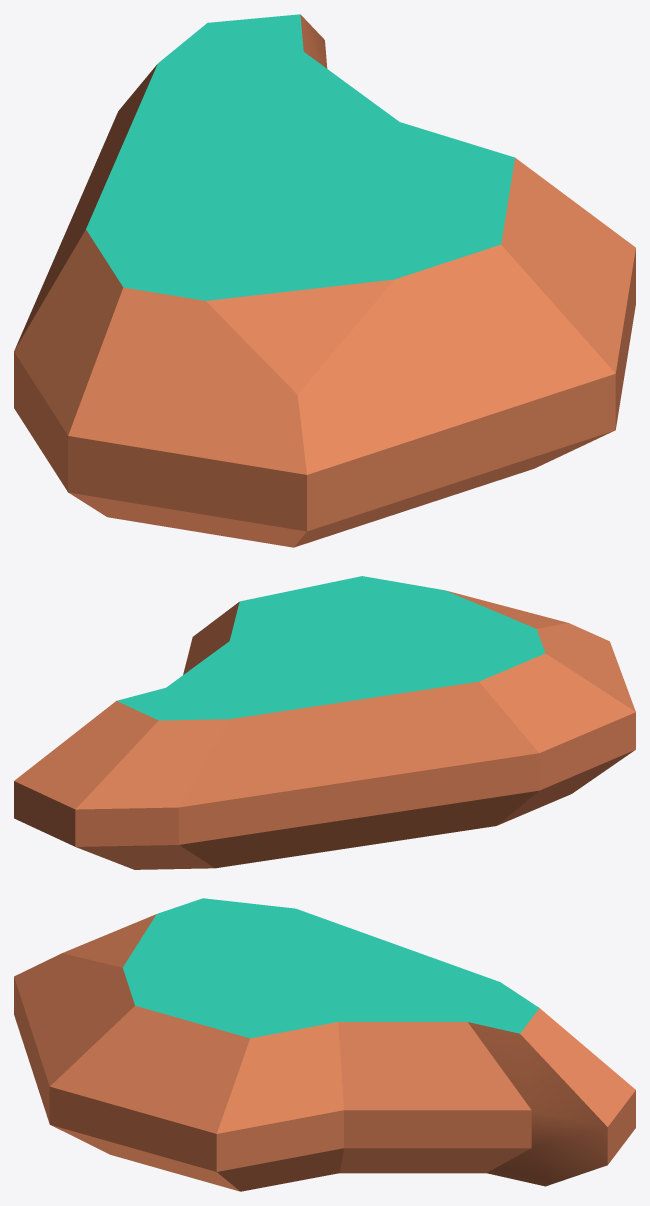
Rendered from rock_largeA.dae.
3 views of the same model, one above another, from view 1: azimuth 30°, elevation 25°; view 2: azimuth 150°, elevation 25°; view 3: azimuth 270°, elevation 25° (orthographic). The views are drawn at different scales.
Parts seen in each view (by area): view 1: rock_largeA; view 2: rock_largeA; view 3: rock_largeA.
Part boxes in pixels (x1=…): rock_largeA: x1=14, y1=14, x2=635, y2=547; rock_largeA: x1=14, y1=576, x2=635, y2=869; rock_largeA: x1=14, y1=898, x2=635, y2=1191.
Bounding box in the file's own units: 0.7849 × 0.2598 × 1.02.
